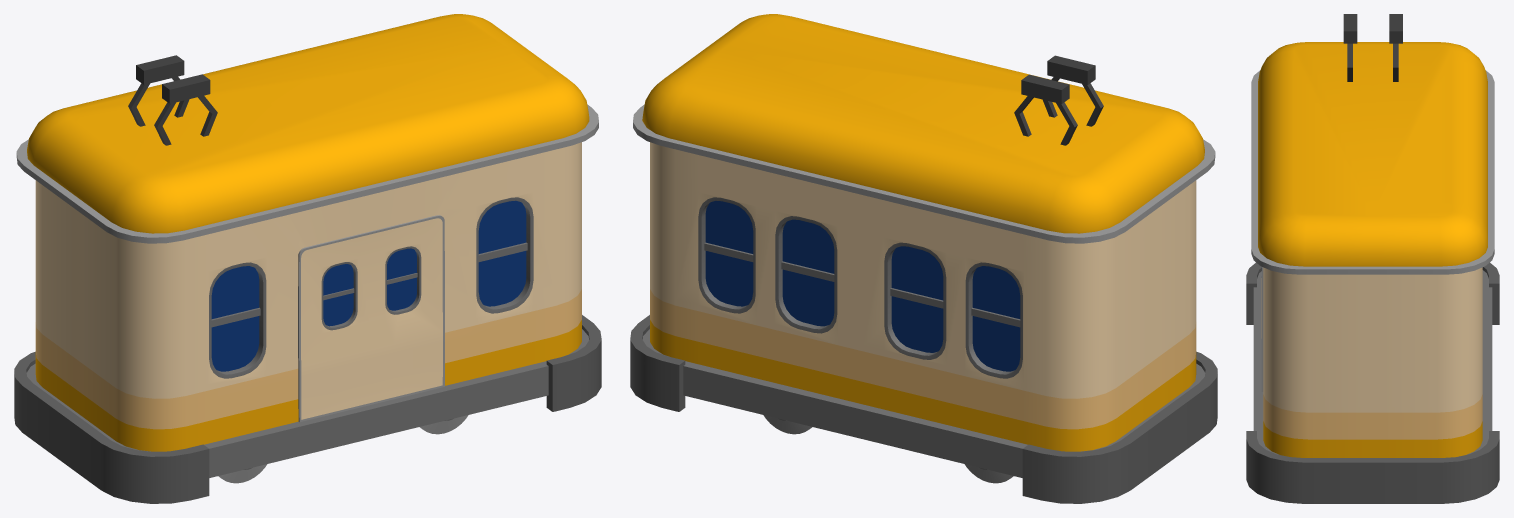
File: tram_car.fbx
The picture shows the model from 3 angles, left to right: view 1: azimuth 30°, elevation 25°; view 2: azimuth 150°, elevation 25°; view 3: azimuth 270°, elevation 25°; orthographic projection. The views are drawn at different scales.
Visible parts, largest first — view 1: Cube.600; view 2: Cube.600; view 3: Cube.600.
Part boxes in pixels (box(x1,y1,x2,y2)): Cube.600: box(14, 14, 601, 503); Cube.600: box(630, 14, 1217, 503); Cube.600: box(1246, 14, 1499, 503).
Size of the model in its own units: 219 by 167 by 111.
Materials: 1 (1 with a texture image).
